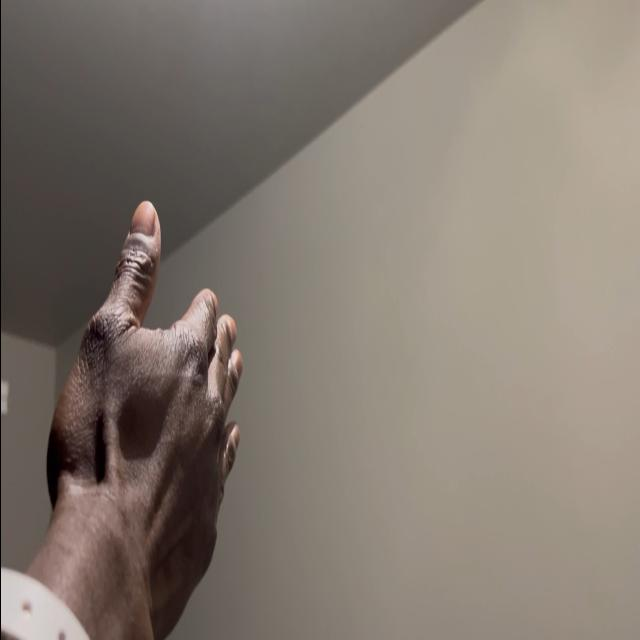Paper: (44, 192, 242, 640)
